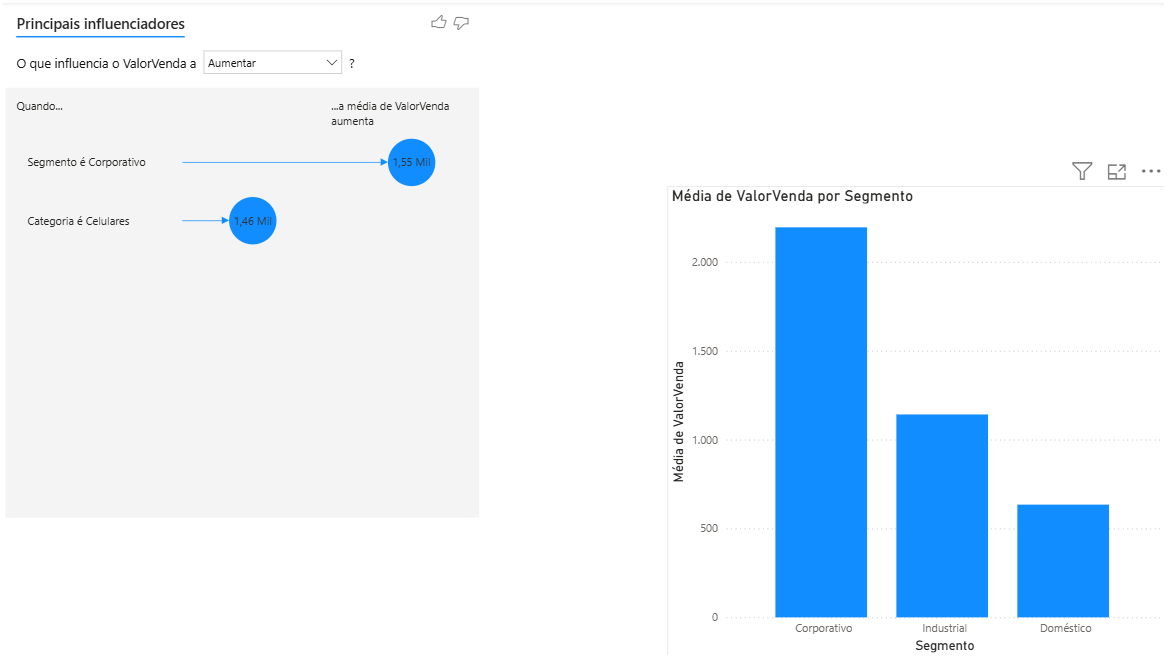

What the dashboard file says about the page in this screenshot:
{"tool":"powerbi","page":{"name":"Principais influenciadores de vendas","canvas":[1280,720],"ordinal":2},"visuals":[{"type":"clusteredColumnChart","fields":{"Category":["Vendas.Segmento"],"Y":["Avg(Vendas.ValorVenda)"]},"box":[731.3,203,548.9,517.3],"z":0},{"type":"keyDriversVisual","fields":{"Target":["Vendas.ValorVenda"],"ExplainBy":["Vendas.Segmento","Vendas.Categoria"]},"box":[0,0,529.7,572.2],"z":1000}]}

Visuals, with their boxes in screenshot pixels (x1, y1, x2, y2), scaled from the page's 1280x720 canvas onto the 1167x658 screenshot:
clusteredColumnChart - Vendas.Segmento x Avg(Vendas.ValorVenda): <bbox>667, 186, 1166, 657</bbox>
keyDriversVisual - Vendas.ValorVenda x Vendas.Segmento: <bbox>0, 0, 483, 523</bbox>
